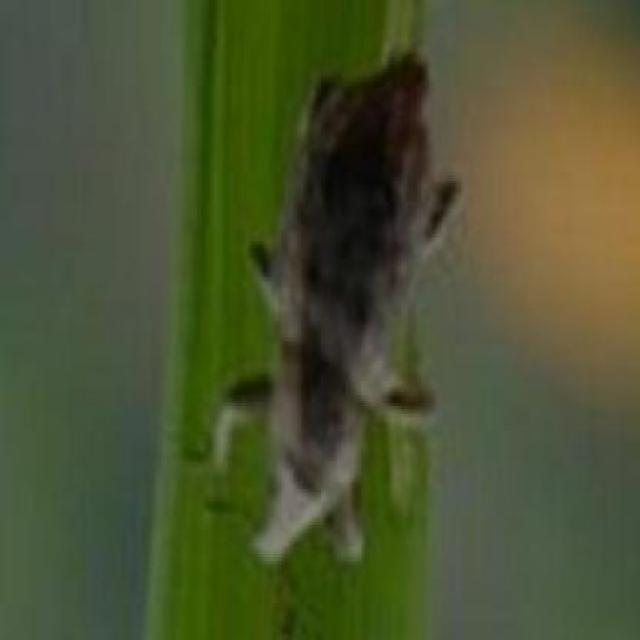rice-bug: (230, 49, 472, 571)
